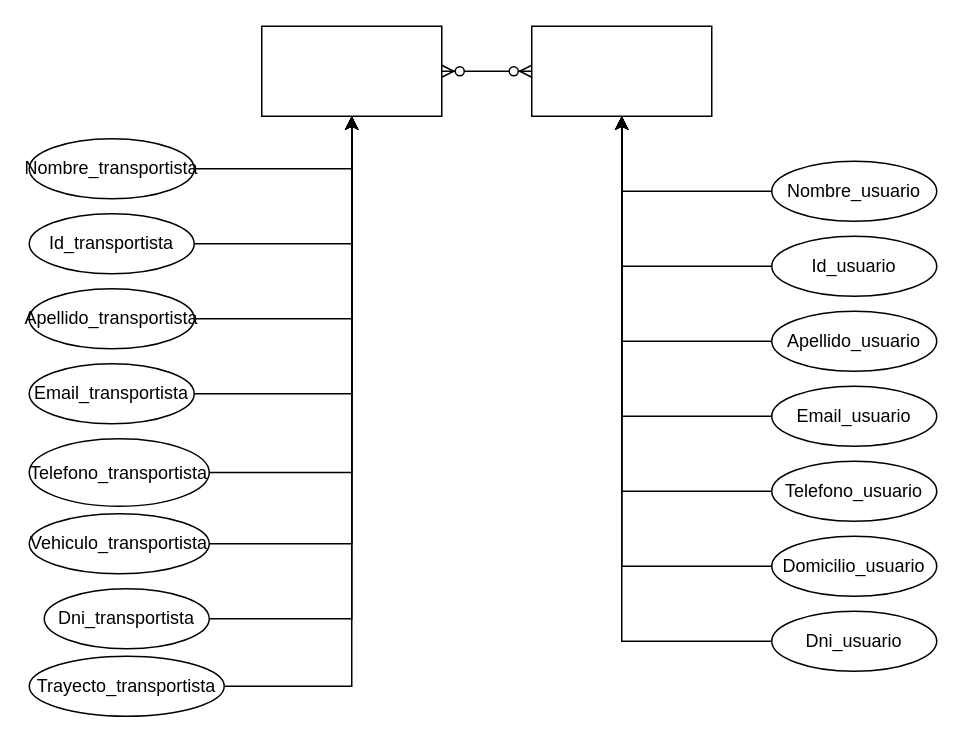
Some shapes in this 963 by 743 pixel diagram are drawn without their labels. Here are the shapes that lost their labels. From the top down, the centre of each, then its label:
At (x=351, y=70): "Transportista".
At (x=621, y=70): "Usuario".
